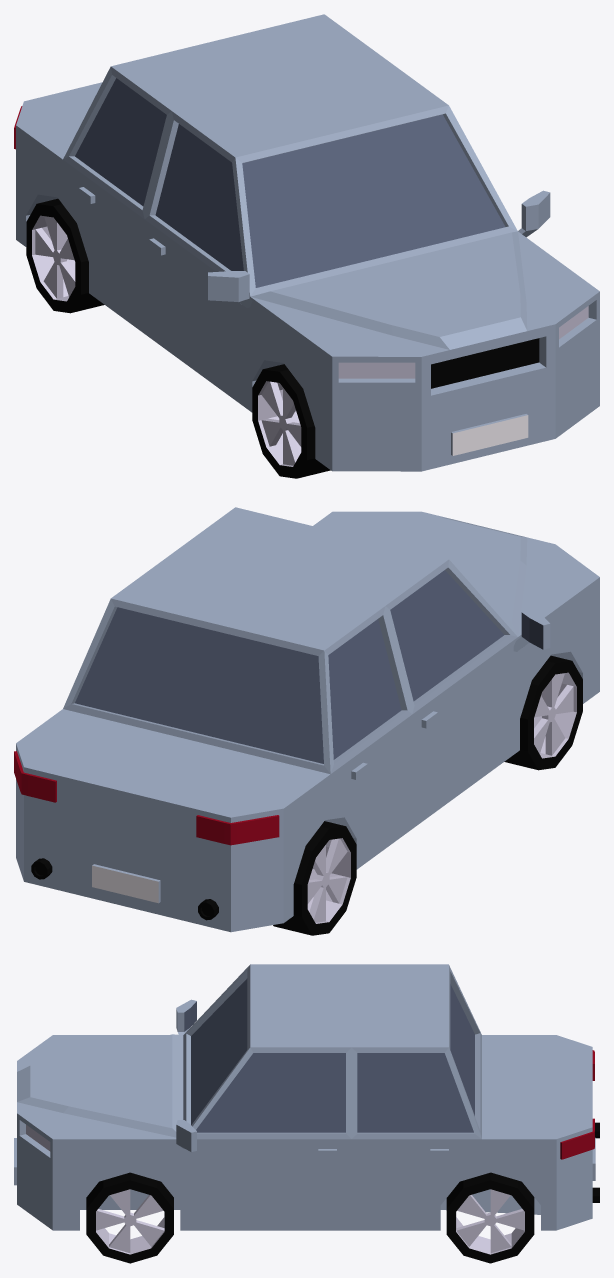
File: Sedan.glb
3 views of the same model, one above another, from view 1: azimuth 30°, elevation 25°; view 2: azimuth 150°, elevation 25°; view 3: azimuth 270°, elevation 25° (orthographic). The views are drawn at different scales.
Visible parts, largest first — view 1: Sedan; view 2: Sedan; view 3: Sedan.
Boxes of the visible parts, x1,y1,x2,y2 form: Sedan: [14, 14, 599, 478]; Sedan: [14, 507, 599, 935]; Sedan: [14, 964, 599, 1263].
Bounding box in the file's own units: 0.6168 × 0.4407 × 1.15.
